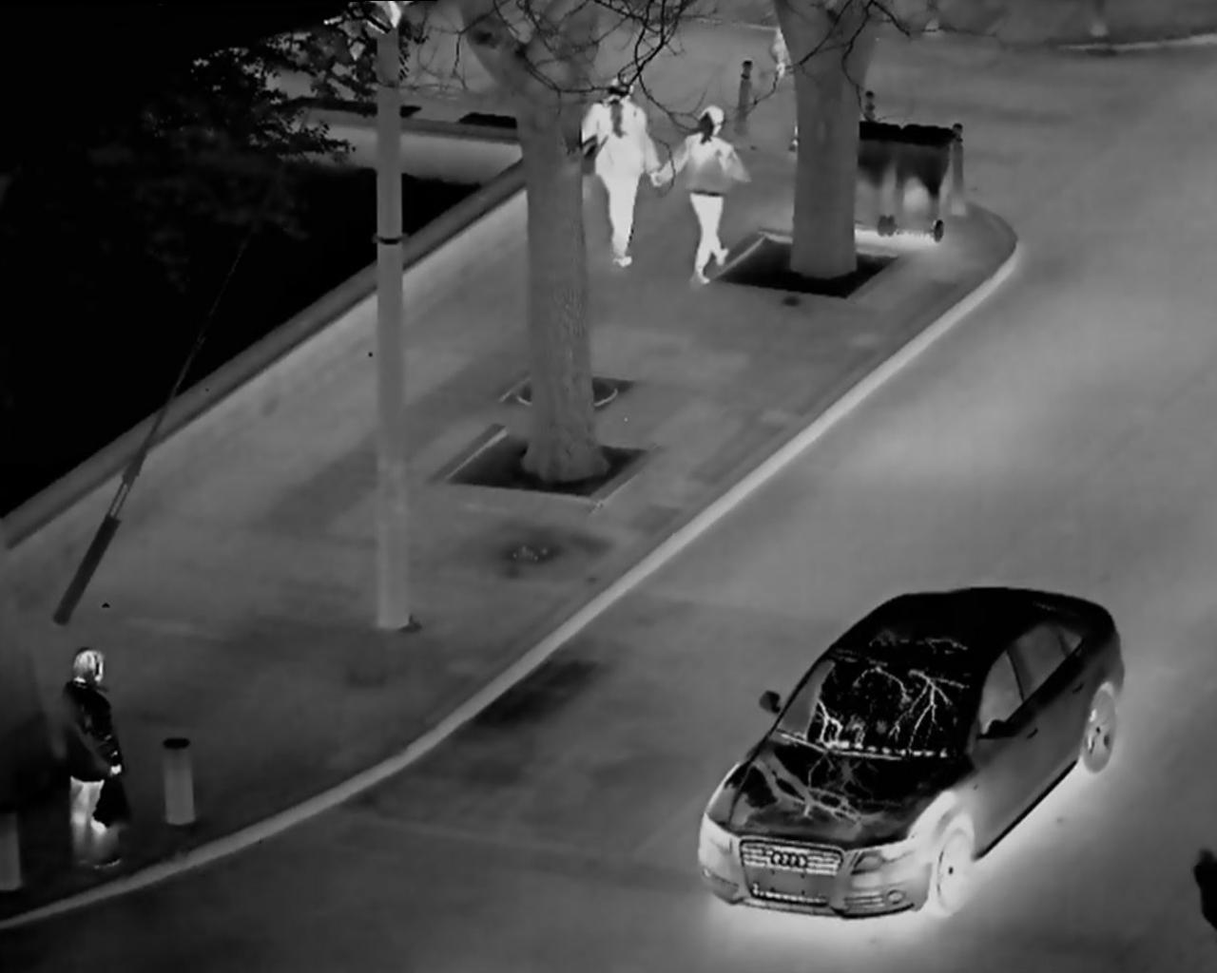person: (48, 636, 143, 893), (659, 88, 754, 301), (583, 62, 663, 278)
